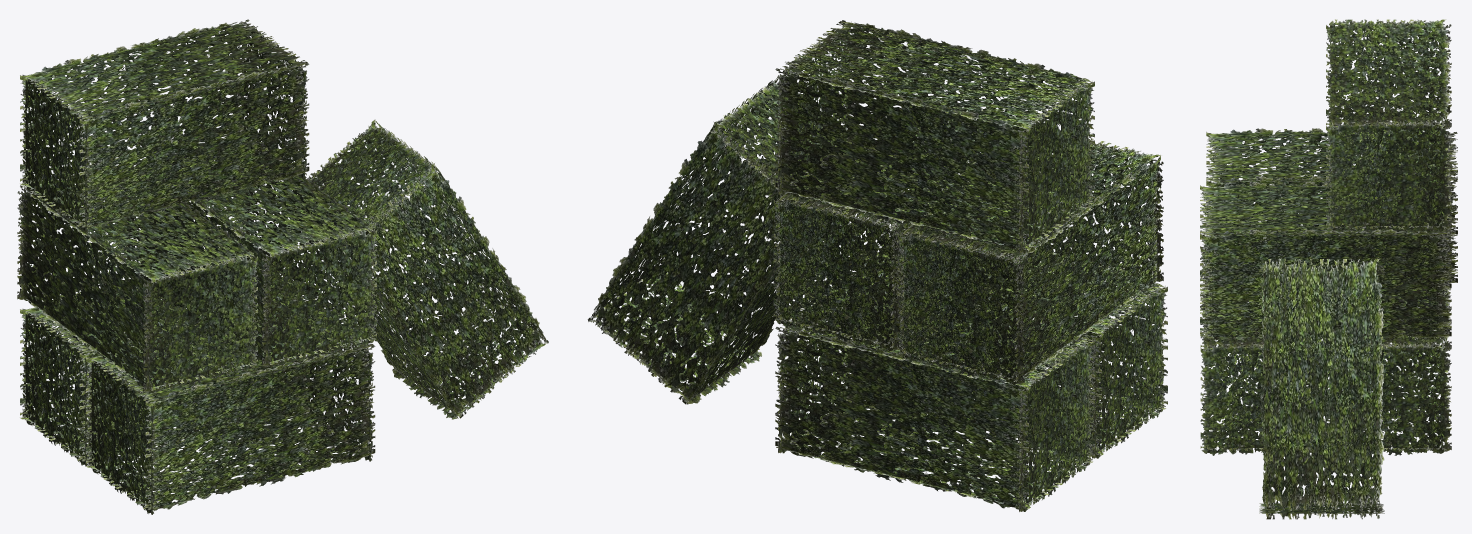
File: arbusto.obj
The picture shows the model from 3 angles, left to right: view 1: azimuth 30°, elevation 25°; view 2: azimuth 150°, elevation 25°; view 3: azimuth 270°, elevation 25°; orthographic projection. The views are drawn at different scales.
Visible parts, largest first — view 1: Plane.005; view 2: Plane.005; view 3: Plane.005.
Boxes of the visible parts, x1=… form: Plane.005: x1=17, y1=19, x2=548, y2=514; Plane.005: x1=587, y1=20, x2=1167, y2=511; Plane.005: x1=1200, y1=19, x2=1457, y2=519.
Size of the model in its own units: 3.83 by 3.06 by 2.05.
